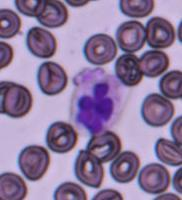N: (70, 68, 127, 136)
